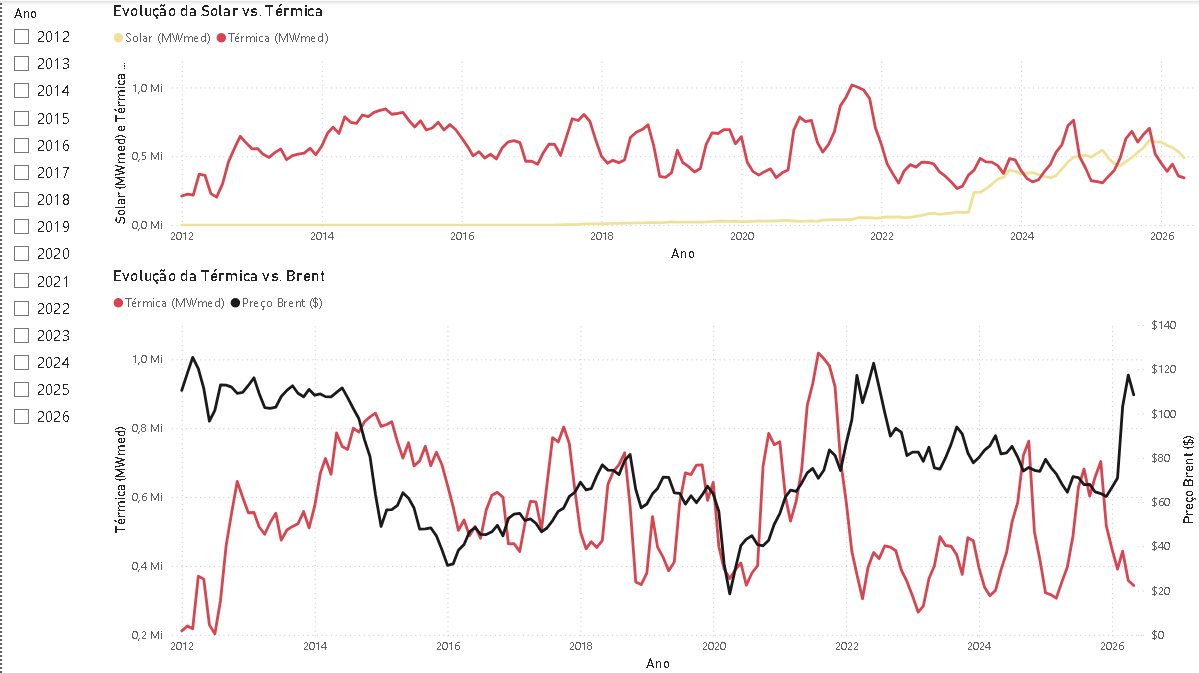

The page's visual inventory and layout, read from the dashboard file:
{"tool":"powerbi","page":{"name":"(Térmica X Solar X Brent)","canvas":[1280,720],"ordinal":2},"visuals":[{"type":"slicer","fields":{"Values":["dataset_final_202605222020.data_referencia.Variation.Hierarquia de datas.Ano"]},"box":[0,0,113.1,720],"z":0},{"type":"lineChart","title":"Evolução da Solar vs. Térmica","fields":{"Category":["dataset_final_202605222020.data_referencia.Variation.Hierarquia de datas.Ano","dataset_final_202605222020.data_referencia.Variation.Hierarquia de datas.Mês"],"Y":["Avg(dataset_final_202605222020.geracao_solar_mwmed)","Avg(dataset_final_202605222020.geracao_termica_mwmed)"]},"box":[113.1,0,1166.5,282.7],"z":1000},{"type":"lineChart","title":"Evolução da Térmica vs. Brent","fields":{"Category":["dataset_final_202605222020.data_referencia.Variation.Hierarquia de datas.Ano","dataset_final_202605222020.data_referencia.Variation.Hierarquia de datas.Mês"],"Y":["Avg(dataset_final_202605222020.geracao_termica_mwmed)"],"Y2":["Avg(dataset_final_202605222020.preco_brent)"]},"box":[113.1,282.7,1166.5,437.3],"z":2000}]}

Visuals, with their boxes in screenshot pixels (x1, y1, x2, y2), scaled from the page's 1280x720 canvas onto the 1199x673 screenshot:
slicer - dataset_final_202605222020.data_referencia.Variation.Hierarquia de datas.Ano: 0, 0, 106, 672
"Evolução da Solar vs. Térmica" lineChart: 106, 0, 1198, 264
"Evolução da Térmica vs. Brent" lineChart: 106, 264, 1198, 672
